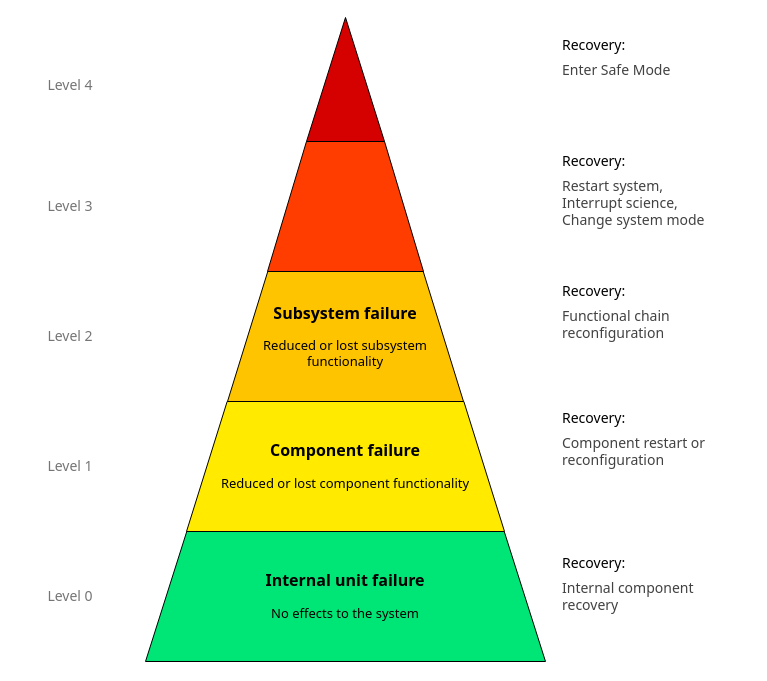
This 767x681 diagram has some shape labels left out. The shapes that lost their labels are listed below. From the top down, each one's centre as x and y in pixels, then its label:
At (345,79): "Ir- reco- verable failure".
At (345,206): "Central failure Mission degradation or interruption".
